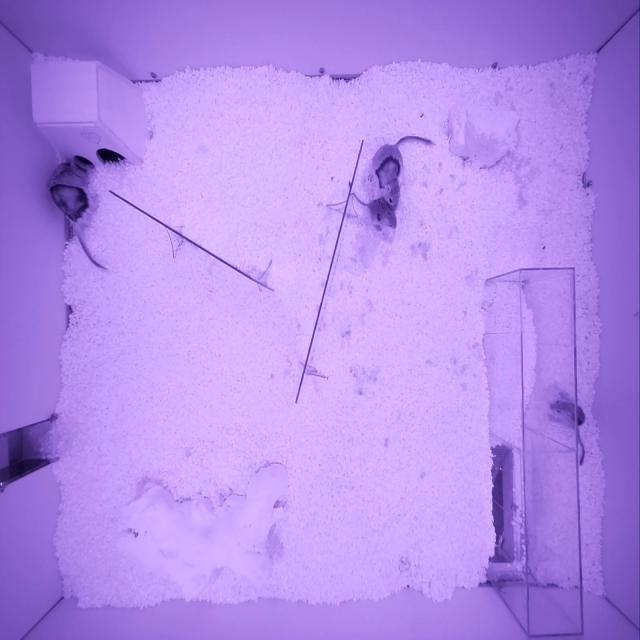adult_back: (49, 162, 96, 226)
adult_front: (371, 144, 403, 210)
pup_spotted: (369, 199, 397, 230)
pup_v_stripe: (549, 401, 586, 428)
